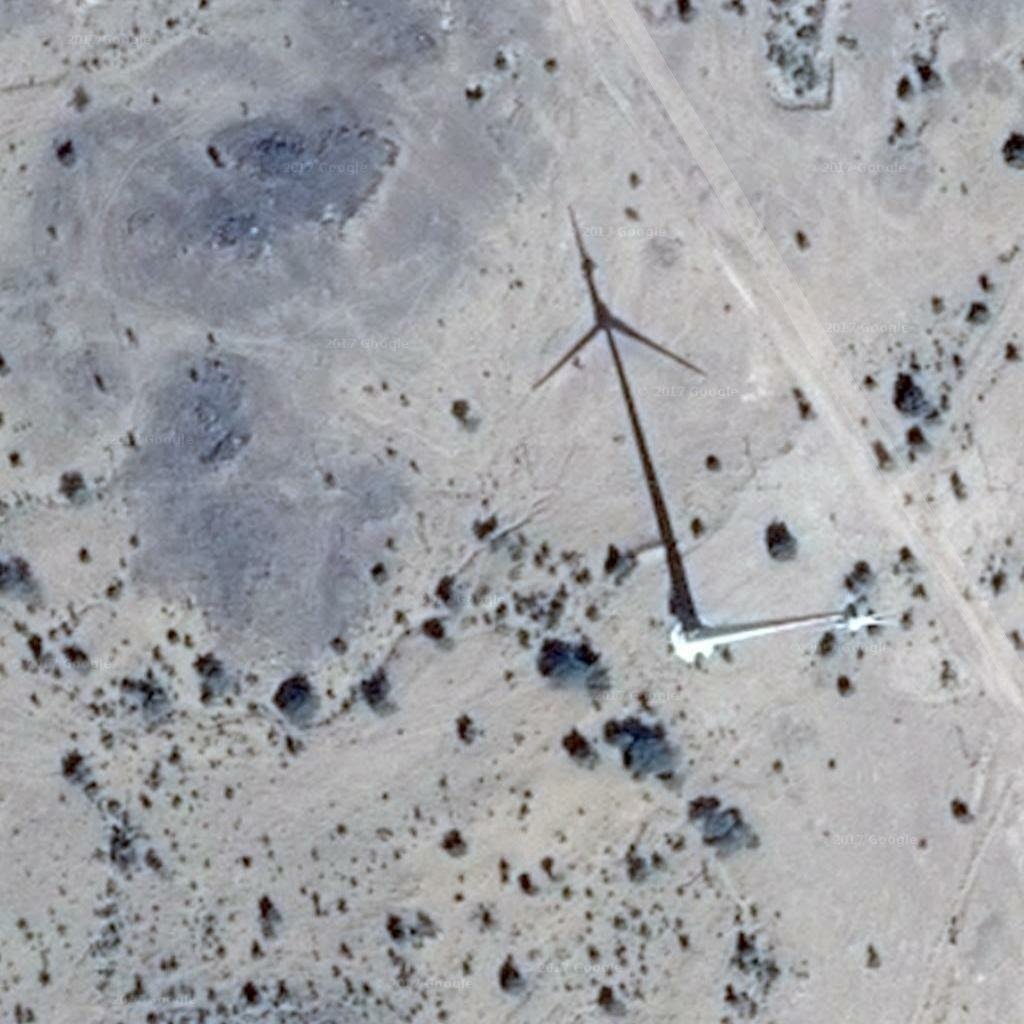Windmill: (528, 205, 706, 579)
